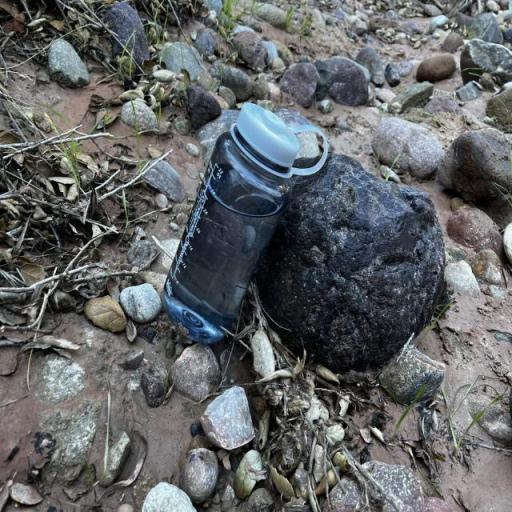bottle: (162, 102, 328, 344)
